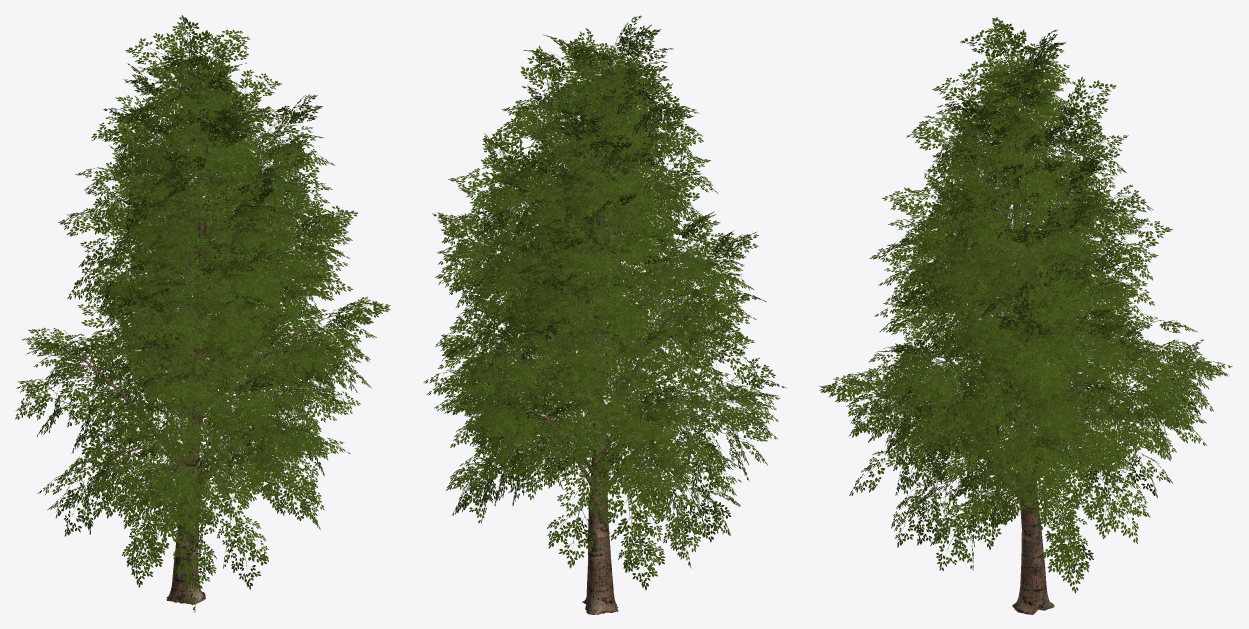
Rendered from Tree.obj.
The picture shows the model from 3 angles, left to right: view 1: azimuth 30°, elevation 25°; view 2: azimuth 150°, elevation 25°; view 3: azimuth 270°, elevation 25°; orthographic projection.
Parts seen in each view (by area): view 1: g2, g1; view 2: g2, g1; view 3: g2, g1.
Part boxes in pixels (left/top/right/bottom): g2: left=15, top=15, right=390, bottom=612; g1: left=52, top=66, right=337, bottom=604; g2: left=423, top=15, right=786, bottom=590; g1: left=472, top=51, right=739, bottom=614; g2: left=819, top=17, right=1232, bottom=593; g1: left=873, top=64, right=1175, bottom=614.
Bounding box in the file's own units: 4.24 × 7.59 × 4.99.
Materials: 2 (2 with a texture image).
